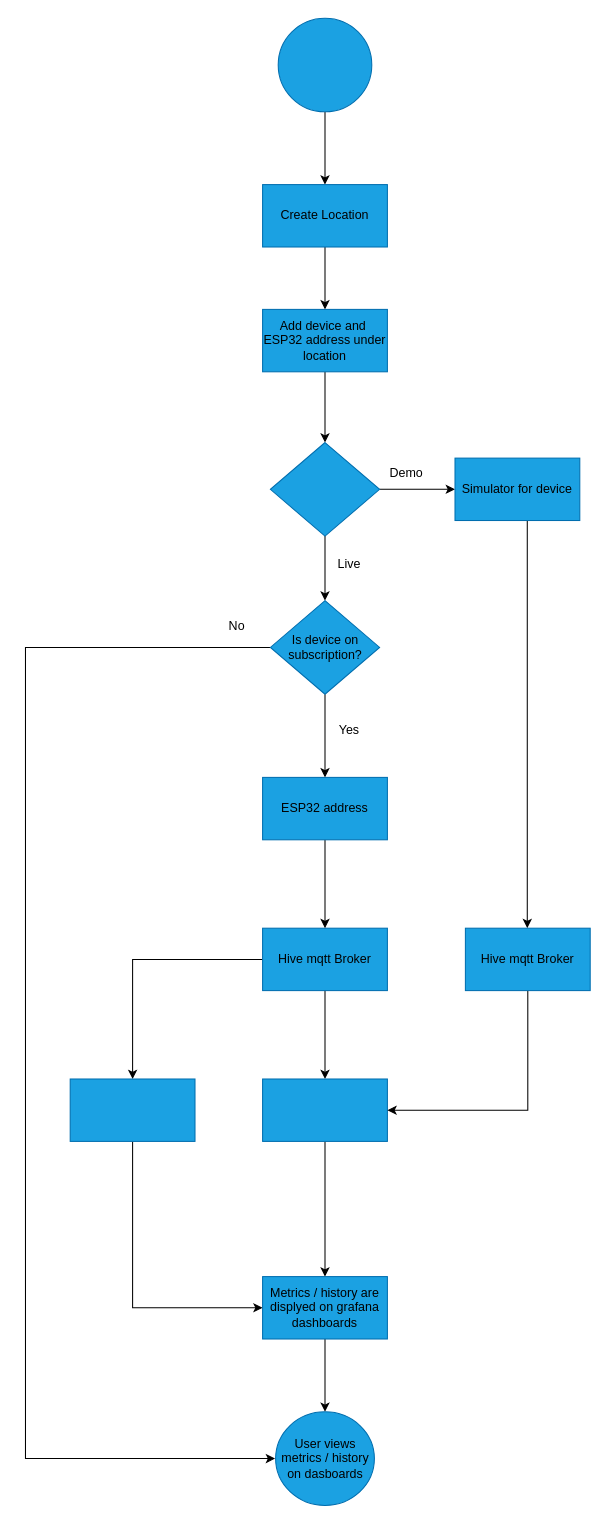
This 608x1524 diagram has some shape labels left out. The shapes that lost their labels are listed below. From the top down, each one's centre as x and y in pixels, then its label:
At pixel 324 64: "User Registeration or Login".
At pixel 324 488: "Is device on live or demo?".
At pixel 132 1109: "MongoDB saves readings when certain thresholds change".
At pixel 324 1109: "Prometheus scrapes metrics at 15s intervals".
